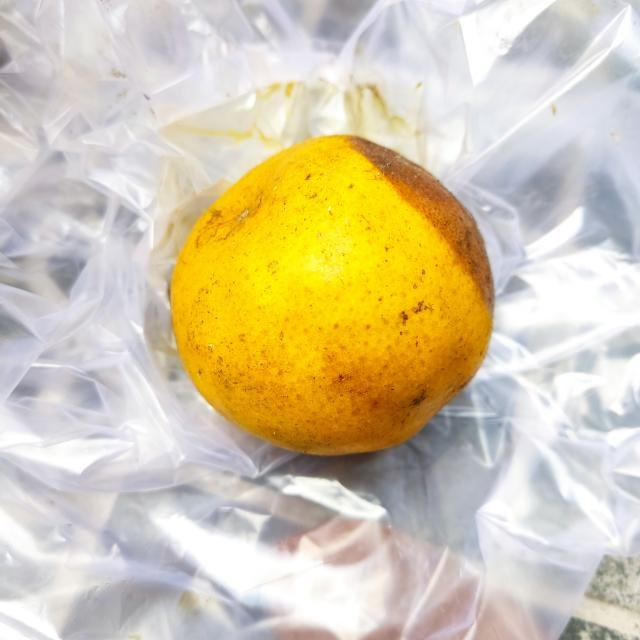agrume: (163, 133, 494, 458)
